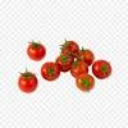tomato: (22, 44, 49, 63), (17, 72, 38, 93), (92, 58, 111, 81), (73, 74, 95, 93), (42, 63, 60, 82), (70, 60, 90, 77), (61, 38, 78, 55)
